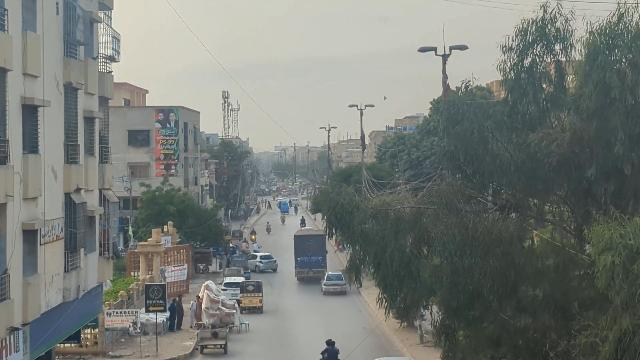Car: (321, 272, 348, 298), (248, 251, 278, 273), (219, 277, 245, 299)
Cart: (194, 327, 231, 355)
Person: (166, 295, 179, 331), (176, 291, 184, 331), (326, 340, 339, 360)
Rickshaw: (239, 280, 264, 315)
Truck: (292, 227, 328, 282)
